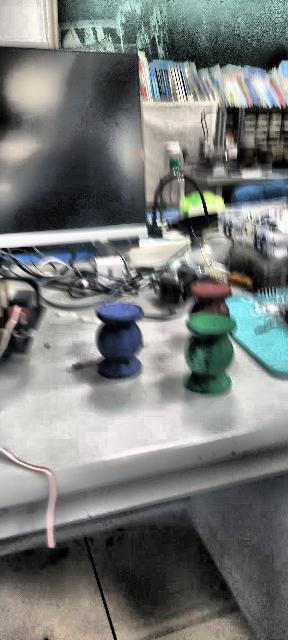blue: (95, 302, 143, 378)
green: (188, 316, 238, 404)
red: (186, 279, 243, 313)
